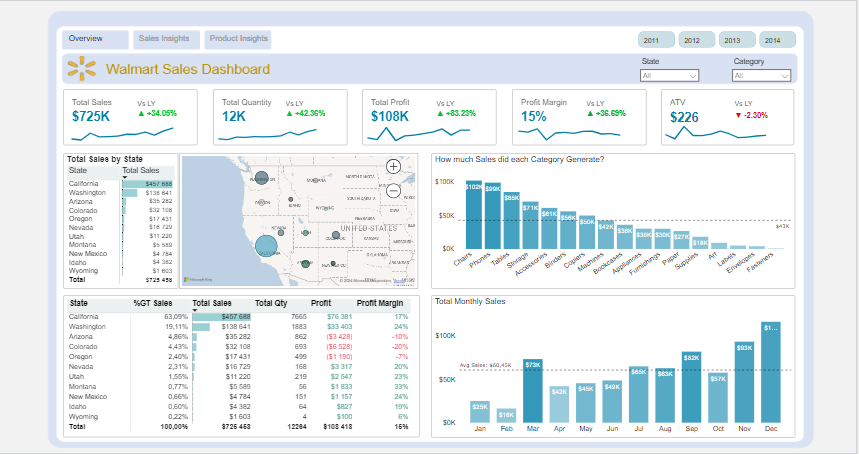

What the dashboard file says about the page in this screenshot:
{"tool":"powerbi","page":{"name":"Walmart Sales Dashboard","canvas":[1980,1050],"ordinal":0},"visuals":[{"type":"actionButton","title":"Prod Button","box":[479.5,72.4,142,39.9],"z":0,"group":"g8"},{"type":"actionButton","title":"Prod Button","box":[479.5,72.4,142,39.9],"z":0,"group":"g9"},{"type":"cardVisual","fields":{"Data":["Walmart.Avg Transaction Value","Walmart.YoY % Change ATV with Arrows"]},"box":[1525.6,206.5,306.7,129.8],"z":0,"group":"g5"},{"type":"cardVisual","fields":{"Data":["Walmart.Total Sales","Walmart.% Change Sales with Arrows"]},"box":[146.9,207.5,310,130],"z":0,"group":"g4"},{"type":"cardVisual","fields":{"Data":["Walmart.Total Quantity","Walmart.% Change Quantity with Arrows"]},"box":[491.6,207.5,310,130],"z":0,"group":"g3"},{"type":"cardVisual","fields":{"Data":["Walmart.Total Profit","Walmart.% Change Profit with Arrows"]},"box":[836.3,207.5,310,130],"z":0,"group":"g6"},{"type":"cardVisual","fields":{"Data":["Walmart.Profit Margin","Walmart.% Change Profit Margin YTD with Arrows"]},"box":[1180.9,207.5,310,130],"z":0,"group":"g7"},{"type":"lineChart","fields":{"Category":["Calendar.Month"],"Y":["Walmart.Total Quantity"]},"box":[492,275,250.6,60.3],"z":0,"group":"g1"},{"type":"map","fields":{"Category":["Walmart.State"],"Size":["Walmart.Total Sales"]},"box":[413,355.5,551.4,313],"z":0,"group":"g2"},{"type":"actionButton","title":"Sales Button","box":[317.4,72.4,134.6,39.9],"z":1000,"group":"g8"},{"type":"actionButton","title":"Sales Button","box":[317.4,72.4,134.6,39.9],"z":1000,"group":"g9"},{"type":"lineChart","fields":{"Category":["Calendar.Month"],"Y":["Walmart.Avg Transaction Value"]},"box":[1522.3,273,256.5,63.5],"z":1000,"group":"g5"},{"type":"lineChart","fields":{"Category":["Calendar.Month"],"Y":["Walmart.Total Profit"]},"box":[837.1,274.3,261.4,61.1],"z":1000,"group":"g6"},{"type":"lineChart","fields":{"Category":["Calendar.Month"],"Y":["Walmart.Profit Margin"]},"box":[1184.3,274.3,259.3,61.1],"z":1000,"group":"g7"},{"type":"lineChart","fields":{"Category":["Calendar.Month"],"Y":["Walmart.Total Sales"]},"box":[153.6,275,259.3,61.1],"z":1000,"group":"g4"},{"type":"group","id":"g1","title":"Group 1","box":[492,275,250.9,61.1],"z":1000,"group":"g3"},{"type":"pivotTable","title":"Total Sales by State","fields":{"Rows":["Walmart.State"],"Values":["Walmart.Total Sales"]},"box":[146.9,355.5,266.1,313],"z":1000,"group":"g2"},{"type":"actionButton","title":"Overview Button","box":[155.4,72.4,134.6,39.9],"z":2000,"group":"g8"},{"type":"clusteredColumnChart","title":"Total Monthly Sales ","fields":{"Category":["Calendar.Month"],"Y":["Walmart.Total Sales"]},"box":[994.1,681,839.2,328.9],"z":8000},{"type":"clusteredColumnChart","title":"How much Sales did each Category Generate?","fields":{"Category":["Walmart.Category"],"Y":["Walmart.Total Sales"]},"box":[994.3,355.5,838.8,313],"z":9000},{"type":"group","id":"g2","title":"map pg1","box":[146.9,355.5,817.5,313],"z":10000},{"type":"pivotTable","title":"p1 Matrix","fields":{"Rows":["Walmart.State","Walmart.City"],"Values":["Divide(Walmart.Total Sales, ScopedEval(Walmart.Total Sales, []))","Walmart.Total Sales","Walmart.Total Quantity","Walmart.Total Profit","Walmart.Profit Margin"]},"box":[146.9,681.3,821.8,327.9],"z":11000},{"type":"group","id":"g3","title":"Group 2","box":[491.6,207.5,310,130],"z":12000},{"type":"group","id":"g4","title":"Group 5","box":[146.9,207.5,310,130],"z":13000},{"type":"group","id":"g5","title":"Group 8","box":[1522.3,206.5,310,130],"z":14000},{"type":"group","id":"g6","title":"Group 3","box":[836.3,207.5,310,130],"z":15000},{"type":"group","id":"g7","title":"Group 4","box":[1180.9,207.5,310,130],"z":16000},{"type":"advancedSlicerVisual","title":"Year Slicer","fields":{"Values":["Calendar.Date.Variation.Date Hierarchy.Year"]},"box":[1466.9,68.1,376.8,49],"z":17000},{"type":"slicer","title":"State Slicer","fields":{"Values":["Walmart.State"]},"box":[1466.5,128.5,155,65],"z":18000},{"type":"slicer","title":"Cat Slicer","fields":{"Values":["Walmart.Category"]},"box":[1678.4,128.5,155,65],"z":19000},{"type":"group","id":"g8","title":"Vis","box":[155.4,72.4,466.3,40.5],"z":20000},{"type":"group","id":"g9","title":"Invis","box":[155.4,72.4,466.3,40.5],"z":21000},{"type":"image","box":[18.4,932.4,87.5,71.4],"z":22000}]}

Visuals, with their boxes in screenshot pixels (x1, y1, x2, y2), scaled from the page's 1980x1050 canvas onto the 859x454 screenshot:
"Prod Button" actionButton: box(208, 31, 270, 49)
"Prod Button" actionButton: box(208, 31, 270, 49)
cardVisual - Walmart.Avg Transaction Value x Walmart.YoY % Change ATV with Arrows: box(662, 89, 795, 145)
cardVisual - Walmart.Total Sales x Walmart.% Change Sales with Arrows: box(64, 90, 198, 146)
cardVisual - Walmart.Total Quantity x Walmart.% Change Quantity with Arrows: box(213, 90, 348, 146)
cardVisual - Walmart.Total Profit x Walmart.% Change Profit with Arrows: box(363, 90, 497, 146)
cardVisual - Walmart.Profit Margin x Walmart.% Change Profit Margin YTD with Arrows: box(512, 90, 647, 146)
lineChart - Calendar.Month x Walmart.Total Quantity: box(213, 119, 322, 145)
map - Walmart.State x Walmart.Total Sales: box(179, 154, 418, 289)
"Sales Button" actionButton: box(138, 31, 196, 49)
"Sales Button" actionButton: box(138, 31, 196, 49)
lineChart - Calendar.Month x Walmart.Avg Transaction Value: box(660, 118, 772, 145)
lineChart - Calendar.Month x Walmart.Total Profit: box(363, 119, 477, 145)
lineChart - Calendar.Month x Walmart.Profit Margin: box(514, 119, 626, 145)
lineChart - Calendar.Month x Walmart.Total Sales: box(67, 119, 179, 145)
"Group 1" group: box(213, 119, 322, 145)
"Total Sales by State" pivotTable: box(64, 154, 179, 289)
"Overview Button" actionButton: box(67, 31, 126, 49)
"Total Monthly Sales " clusteredColumnChart: box(431, 294, 795, 437)
"How much Sales did each Category Generate?" clusteredColumnChart: box(431, 154, 795, 289)
"map pg1" group: box(64, 154, 418, 289)
"p1 Matrix" pivotTable: box(64, 295, 420, 436)
"Group 2" group: box(213, 90, 348, 146)
"Group 5" group: box(64, 90, 198, 146)
"Group 8" group: box(660, 89, 795, 145)
"Group 3" group: box(363, 90, 497, 146)
"Group 4" group: box(512, 90, 647, 146)
"Year Slicer" advancedSlicerVisual: box(636, 29, 800, 51)
"State Slicer" slicer: box(636, 56, 703, 84)
"Cat Slicer" slicer: box(728, 56, 795, 84)
"Vis" group: box(67, 31, 270, 49)
"Invis" group: box(67, 31, 270, 49)
image: box(8, 403, 46, 434)
